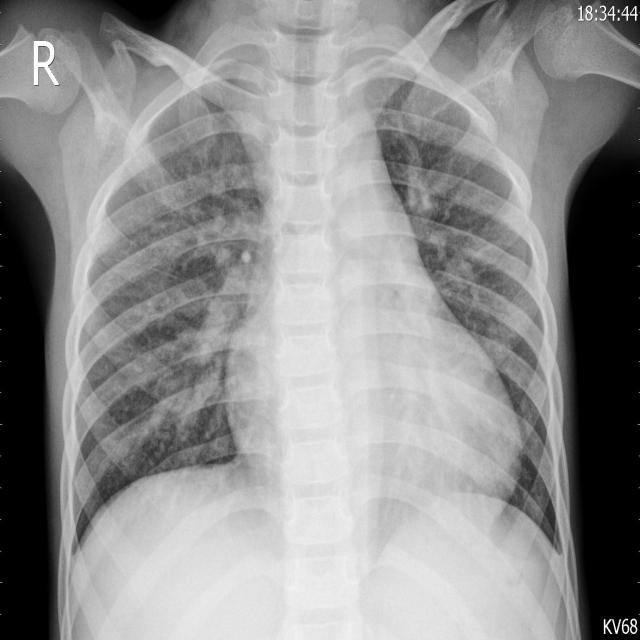low-pneumonia: (401, 136, 489, 323), (179, 215, 267, 351), (182, 94, 245, 197), (143, 360, 212, 451)
